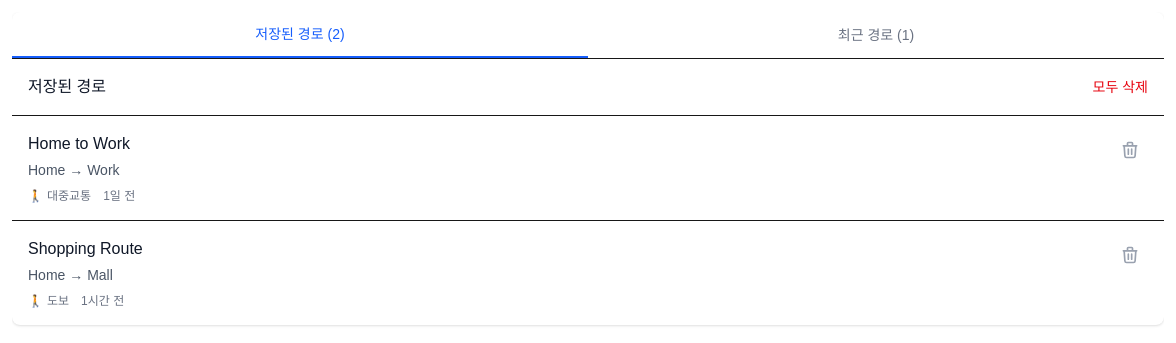
Scenario: SavedRoutesList › should show route history
Click on the history tab
What coordinates should you click on to do the following:
click the tab "최근 경로 (1)"
I would click on:
 (876, 35)
Its box is [588, 12, 1164, 58].
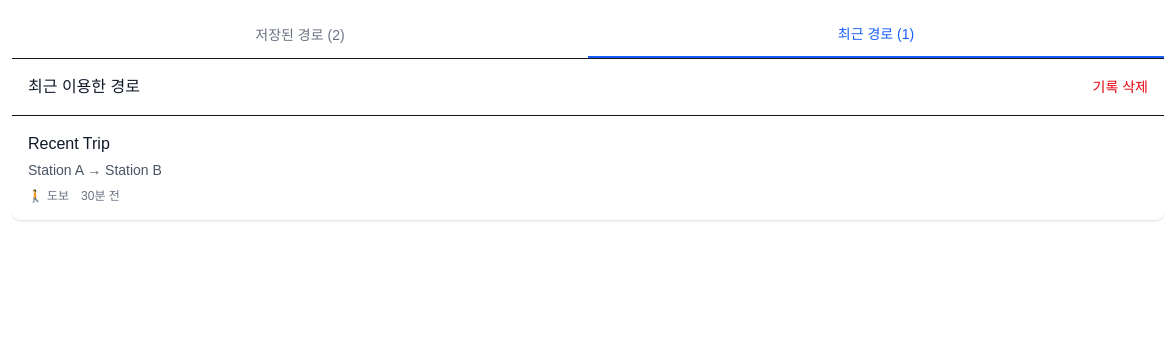
Now the text "Recent Trip" is shown, box [28, 135, 110, 152]
Now the text "Station A → Station B" is shown, box [28, 162, 162, 178]
